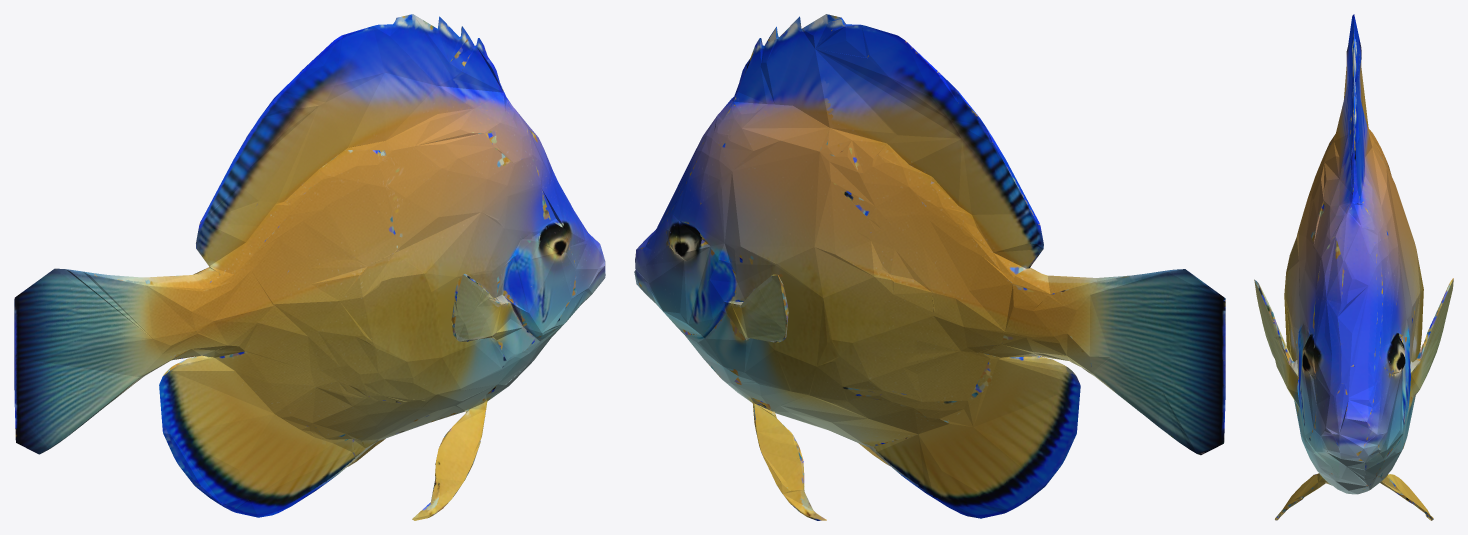
The model's file is fish_0104_smpl23_resized.glb.
3 views of the same model, side by side, from view 1: azimuth 30°, elevation 25°; view 2: azimuth 150°, elevation 25°; view 3: azimuth 270°, elevation 25° (orthographic). The views are drawn at different scales.
Visible parts, largest first — view 1: world; view 2: world; view 3: world.
Boxes of the visible parts, <box> form: world: <box>14,14,605,520</box>; world: <box>634,14,1225,520</box>; world: <box>1254,14,1453,520</box>.
Bounding box in the file's own units: 1.99 × 1.53 × 0.5705.
Materials: 1 (1 with a texture image).
